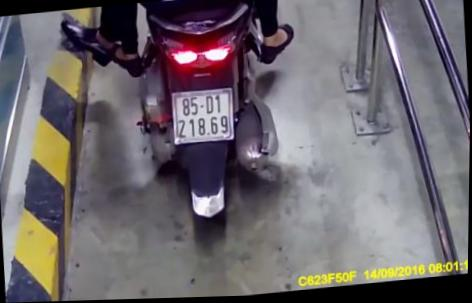LP: (170, 87, 237, 146)
